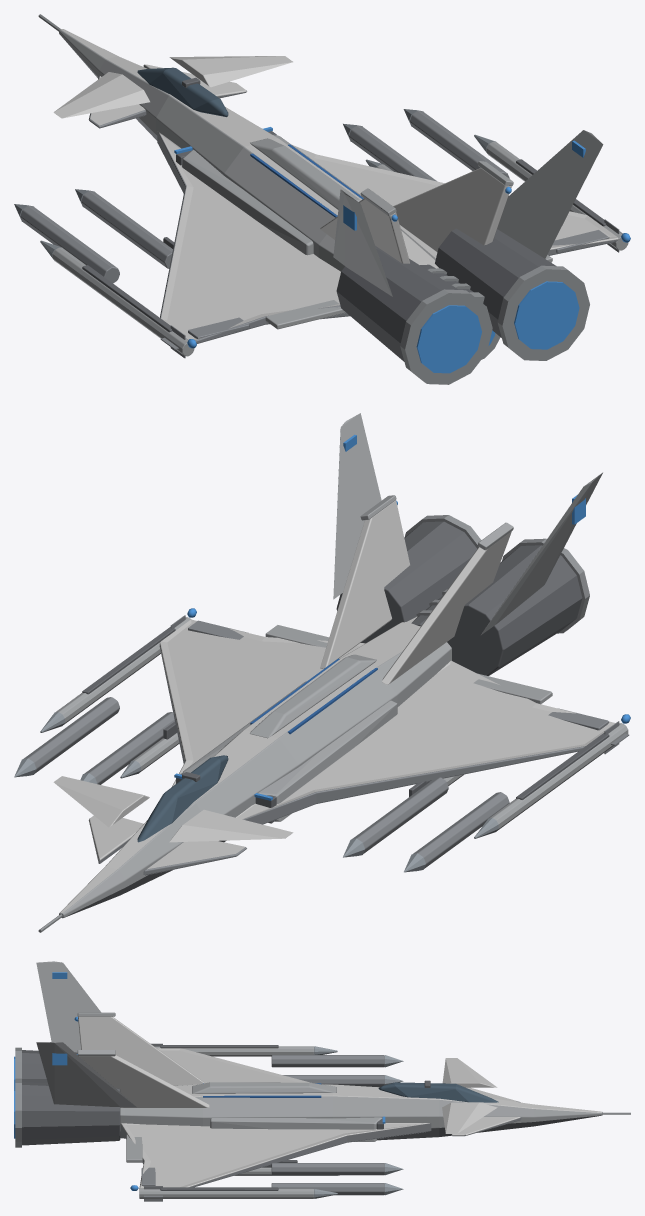
Rendered from lattice_interceptor.glb.
3 views of the same model, one above another, from view 1: azimuth 30°, elevation 25°; view 2: azimuth 150°, elevation 25°; view 3: azimuth 270°, elevation 25° (orthographic). The views are drawn at different scales.
Visible parts, largest first — view 1: Body; view 2: Body; view 3: Body.
Part boxes in pixels (<box>): Body: <box>14,14,630,384</box>; Body: <box>14,413,630,932</box>; Body: <box>14,961,630,1201</box>.
Bounding box in the file's own units: 1.87 × 0.8095 × 3.26.
